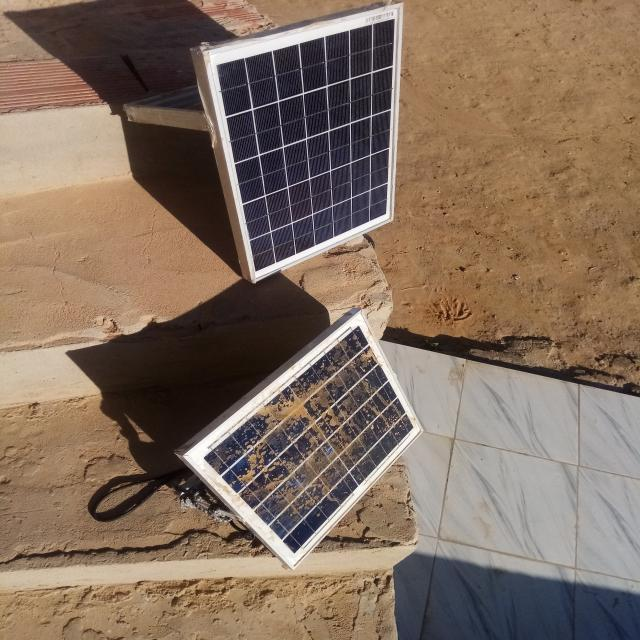faulty: (183, 309, 425, 570)
no faulty: (204, 4, 401, 282)
